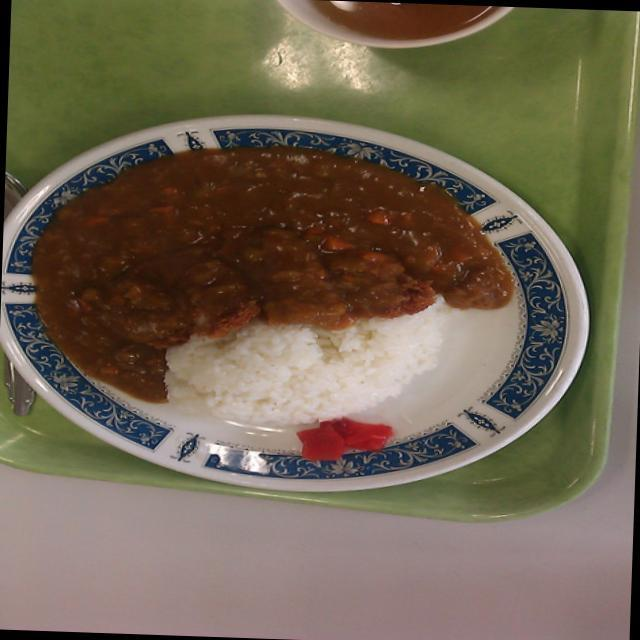Beef Curry: (14, 135, 514, 360)
